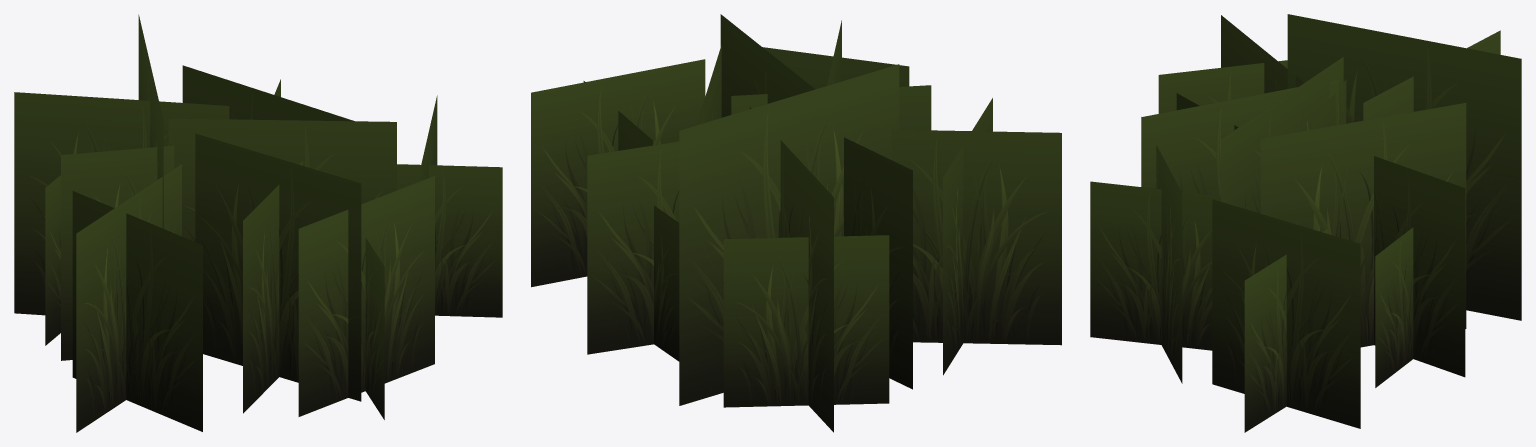
The model's file is Grass_06.fbx.
3 renders of one model, left to right at view 1: azimuth 30°, elevation 25°; view 2: azimuth 150°, elevation 25°; view 3: azimuth 270°, elevation 25°, orthographic. The views are drawn at different scales.
Visible parts, largest first — view 1: Grass_06; view 2: Grass_06; view 3: Grass_06.
Part boxes in pixels (x1,y1,x2,y2): Grass_06: (14, 14, 502, 432); Grass_06: (531, 14, 1061, 432); Grass_06: (1090, 14, 1521, 432).
Size of the model in its own units: 2.15 by 1.22 by 1.82.
Materials: 1 (1 with a texture image).
